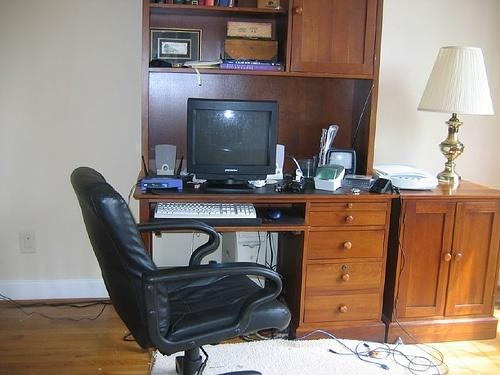chair: (69, 162, 293, 375)
tvmonitor: (186, 97, 277, 194), (325, 149, 359, 177)
